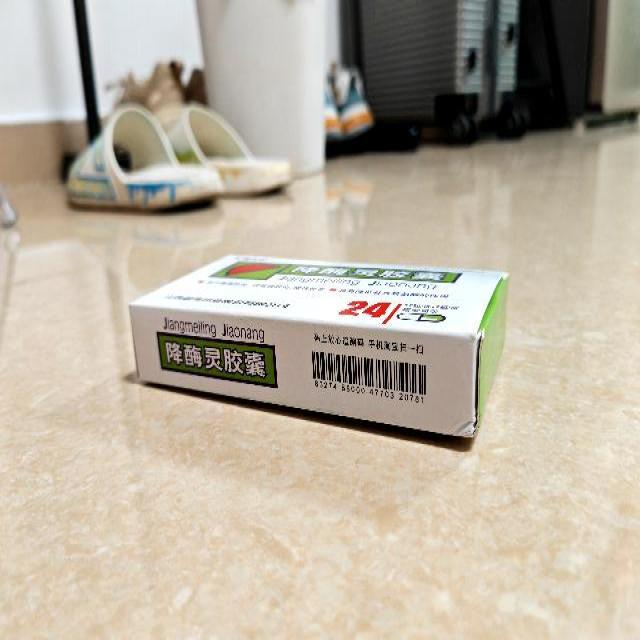box: (127, 252, 509, 442)
